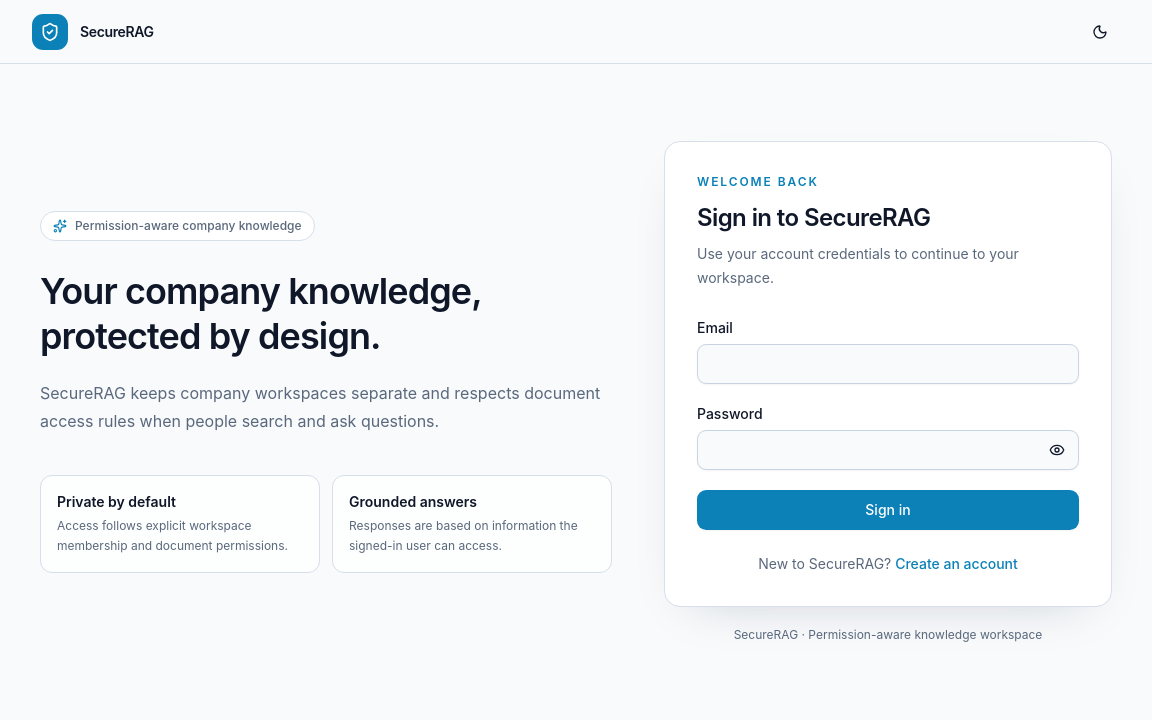
Scenario: authentication routes and screens › switches the accessible theme control between light and dark modes on auth routes
Click the button named "switch to dark theme" at (1100, 32), box [1080, 12, 1120, 52]
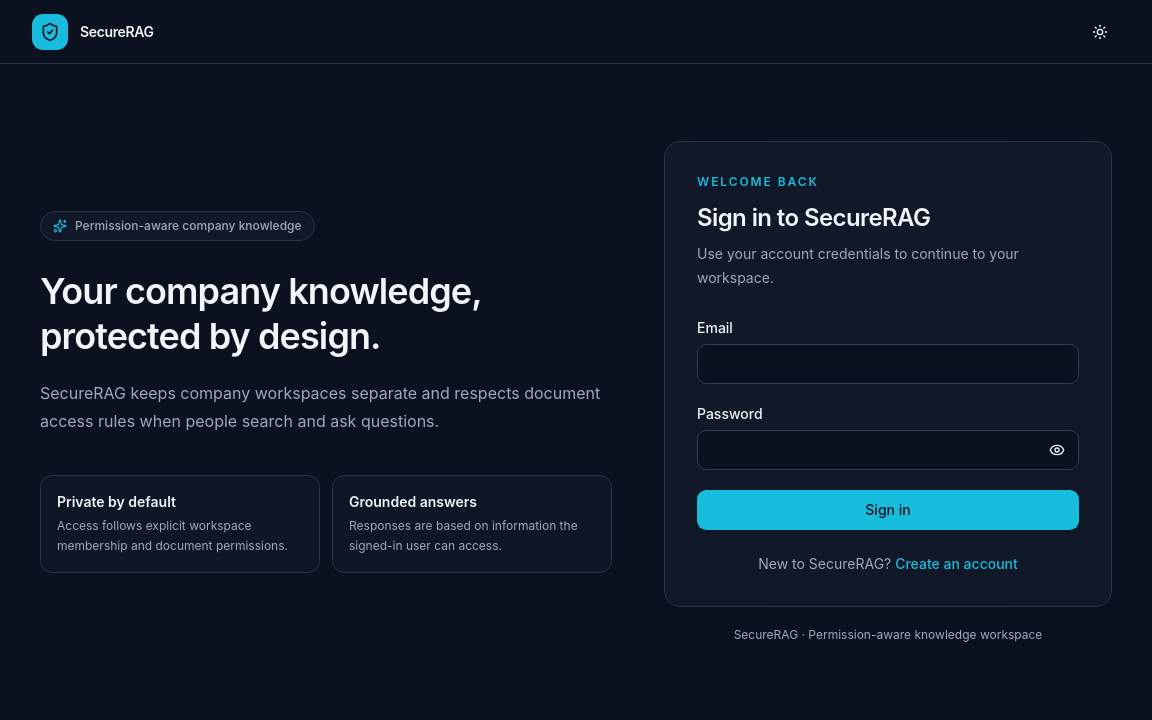
Now the button named "switch to light theme" is shown, box [1080, 12, 1120, 52]
